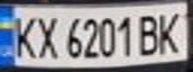0: (97, 12, 118, 59)
1: (115, 11, 136, 57)
2: (78, 14, 100, 61)
6: (60, 12, 84, 60)
B: (136, 10, 163, 56)
K: (6, 11, 39, 60), (154, 8, 187, 55)
X: (30, 11, 60, 61)
